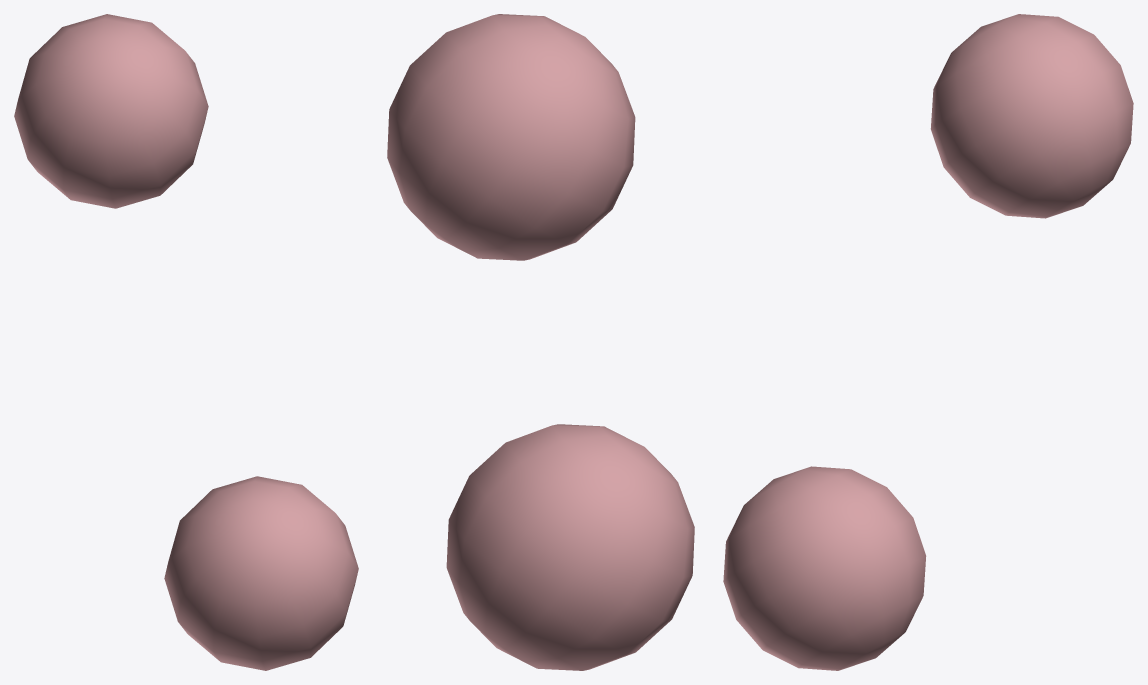
3 renders of one model, left to right at view 1: azimuth 30°, elevation 25°; view 2: azimuth 150°, elevation 25°; view 3: azimuth 270°, elevation 25°, orthographic. The views are drawn at different scales.
Visible parts, largest first — view 1: ZA_b84825343cb1b8ad; view 2: ZA_b84825343cb1b8ad; view 3: ZA_b84825343cb1b8ad.
Part boxes in pixels (<box>): ZA_b84825343cb1b8ad: <box>14,14,358,670</box>; ZA_b84825343cb1b8ad: <box>387,14,694,670</box>; ZA_b84825343cb1b8ad: <box>723,14,1133,670</box>.
Size of the model in its own units: 0.00339 by 0.0085 by 0.00517.
